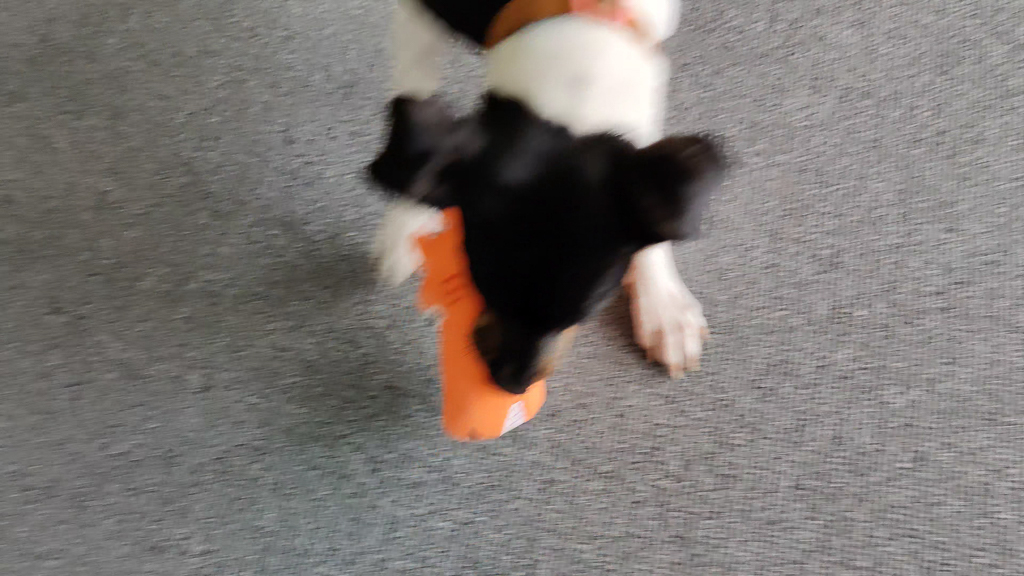Dog: (349, 0, 761, 425)
